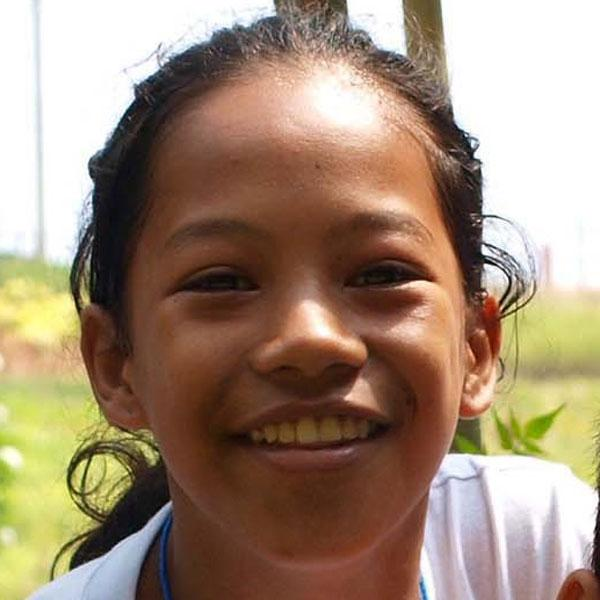Eyes: (162, 251, 268, 308), (337, 245, 436, 297)
